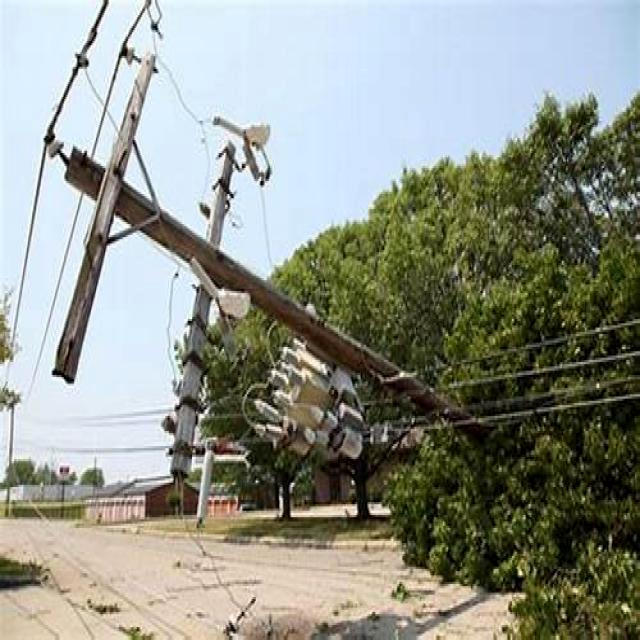Broken Pole: (27, 30, 522, 526)
